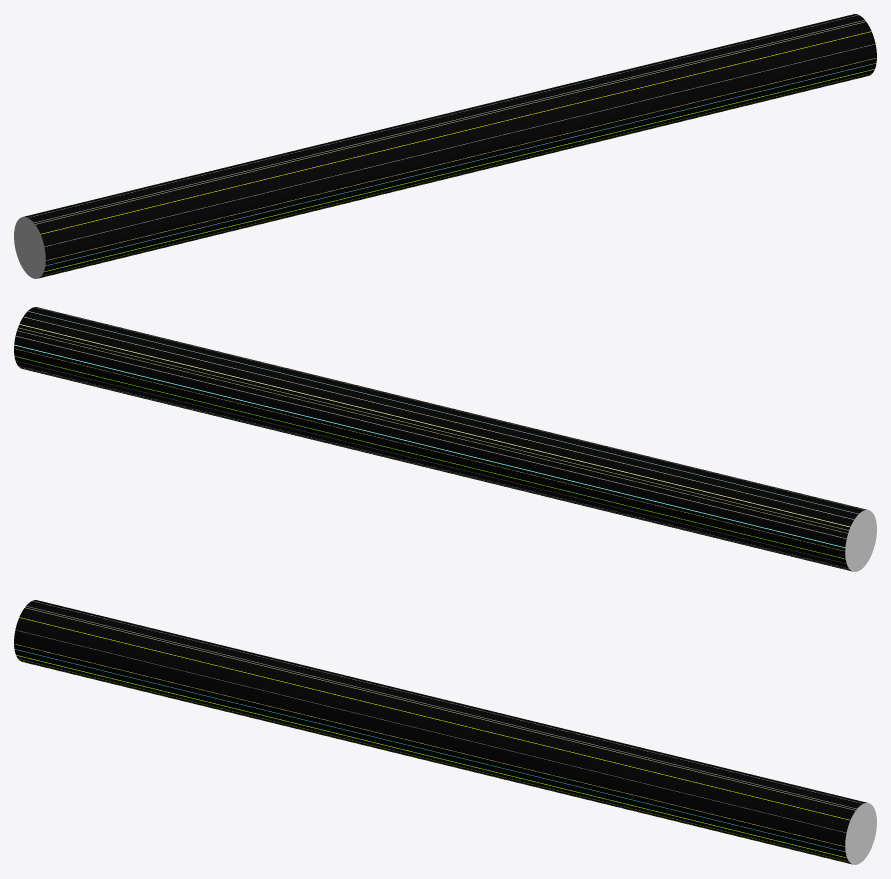
Rendered from niveau1.fbx.
The picture shows the model from 3 angles, top to bottom: view 1: azimuth 30°, elevation 25°; view 2: azimuth 150°, elevation 25°; view 3: azimuth 330°, elevation 25°; orthographic projection.
Visible parts, largest first — view 1: Cylindre; view 2: Cylindre; view 3: Cylindre.
Part boxes in pixels (box(x1,y1,x2,y2)): Cylindre: box(14, 14, 876, 278); Cylindre: box(14, 307, 876, 571); Cylindre: box(14, 600, 876, 864).
Size of the model in its own units: 181273 by 12000 by 12000.
